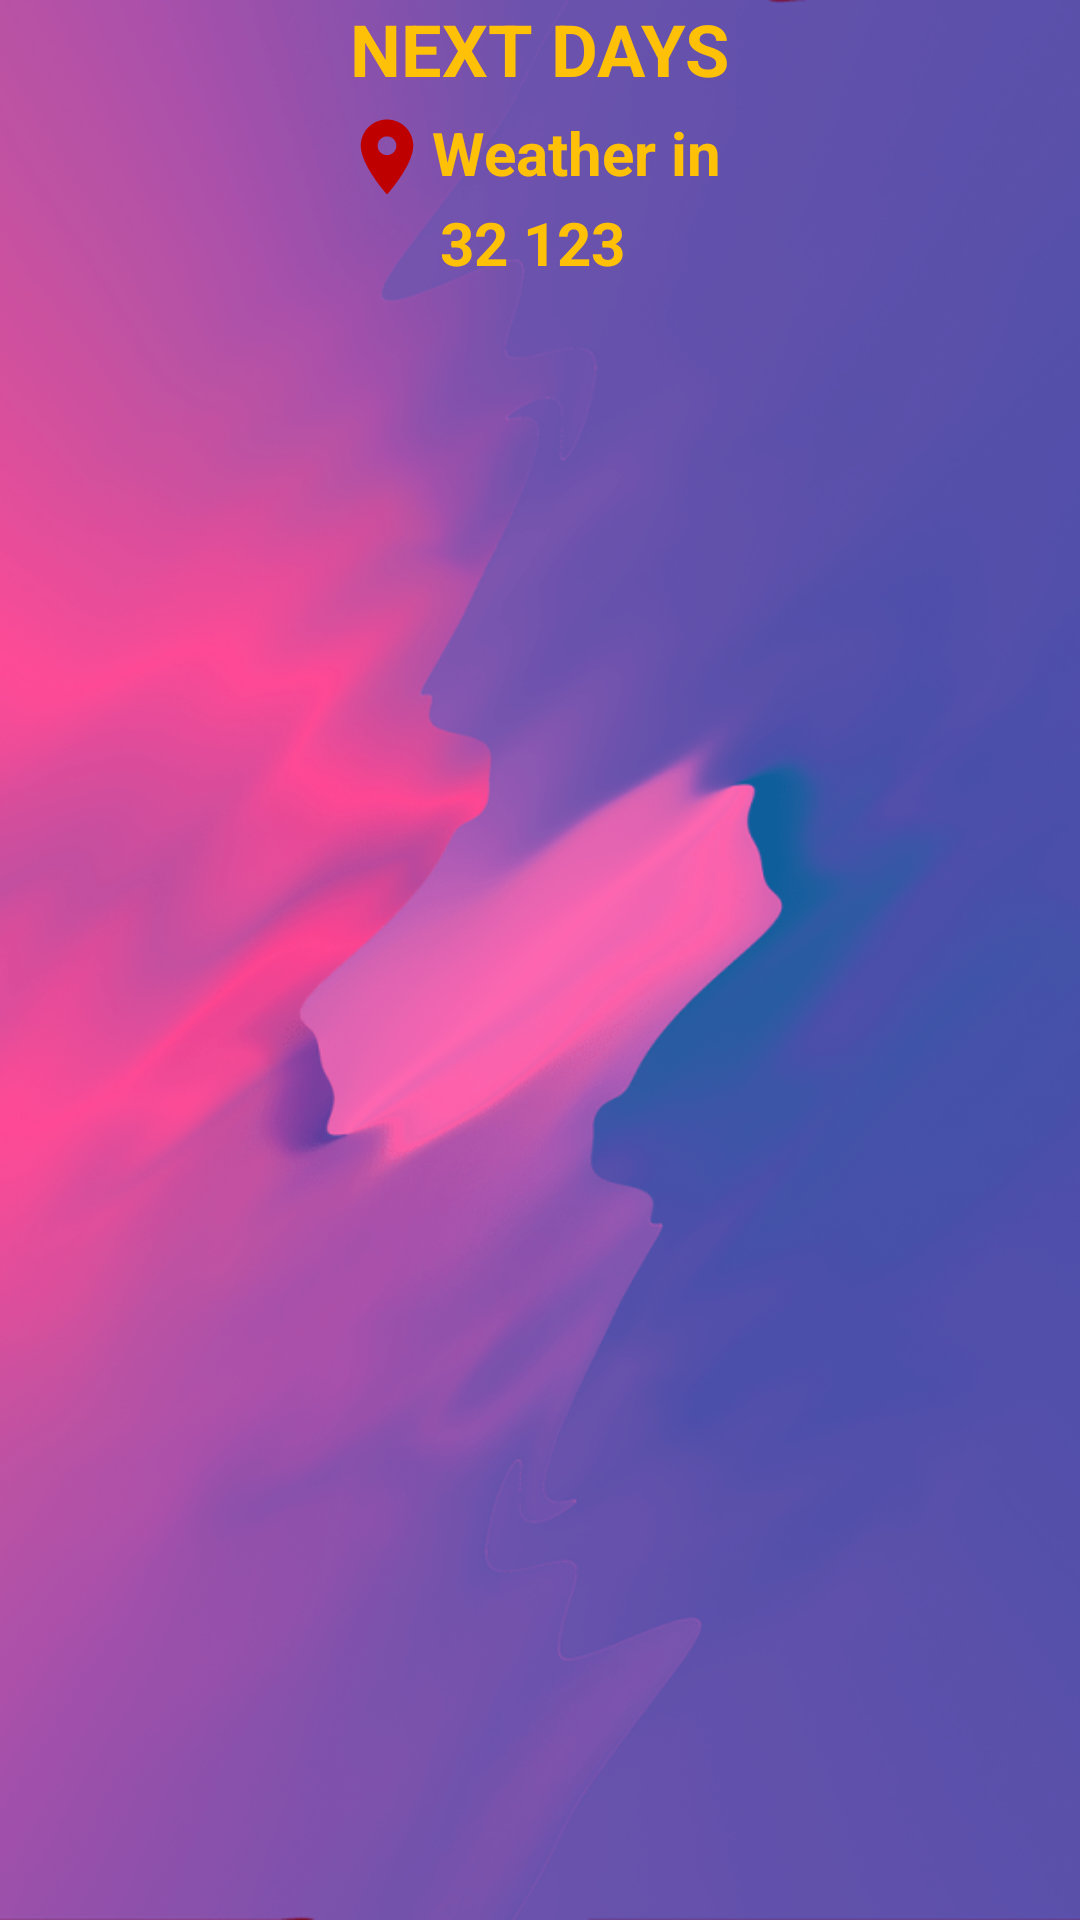

Screen size 1080*1920. Icon name, then its box in pixels as BBox(x1, y1, x2, y2):
location on: BBox(360, 119, 414, 194)
